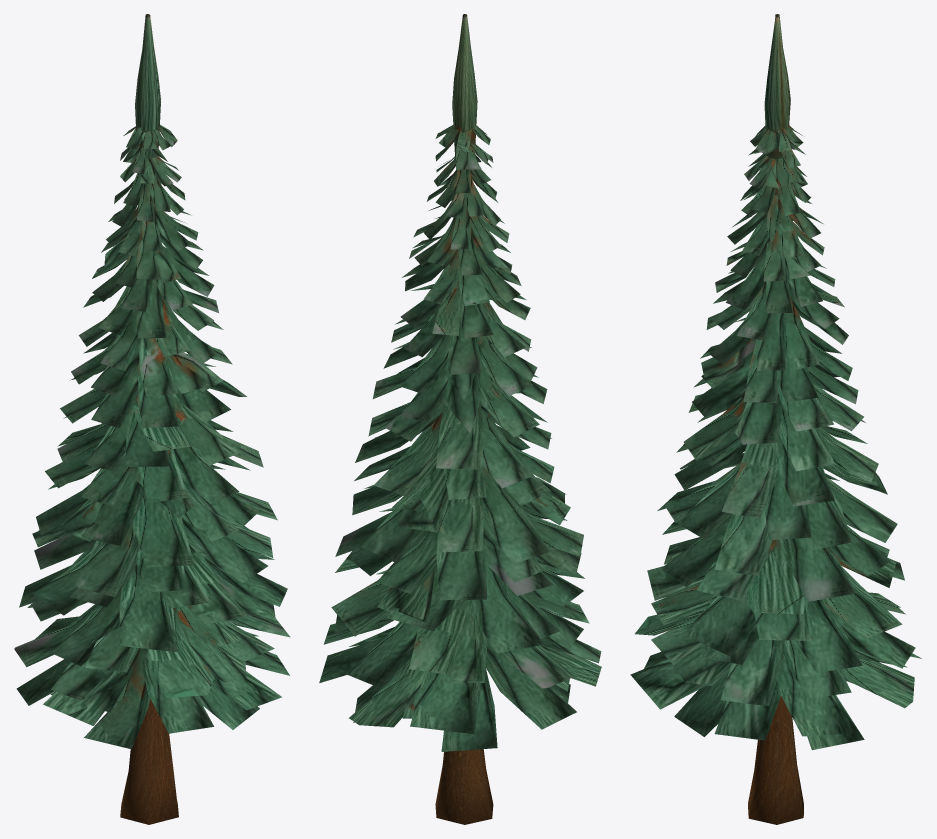
File: tree-pine.glb
3 renders of one model, left to right at view 1: azimuth 30°, elevation 25°; view 2: azimuth 150°, elevation 25°; view 3: azimuth 270°, elevation 25°, orthographic.
Bounding box in the file's own units: 0.319 × 1 × 0.3331.
Materials: 1 (1 with a texture image).
